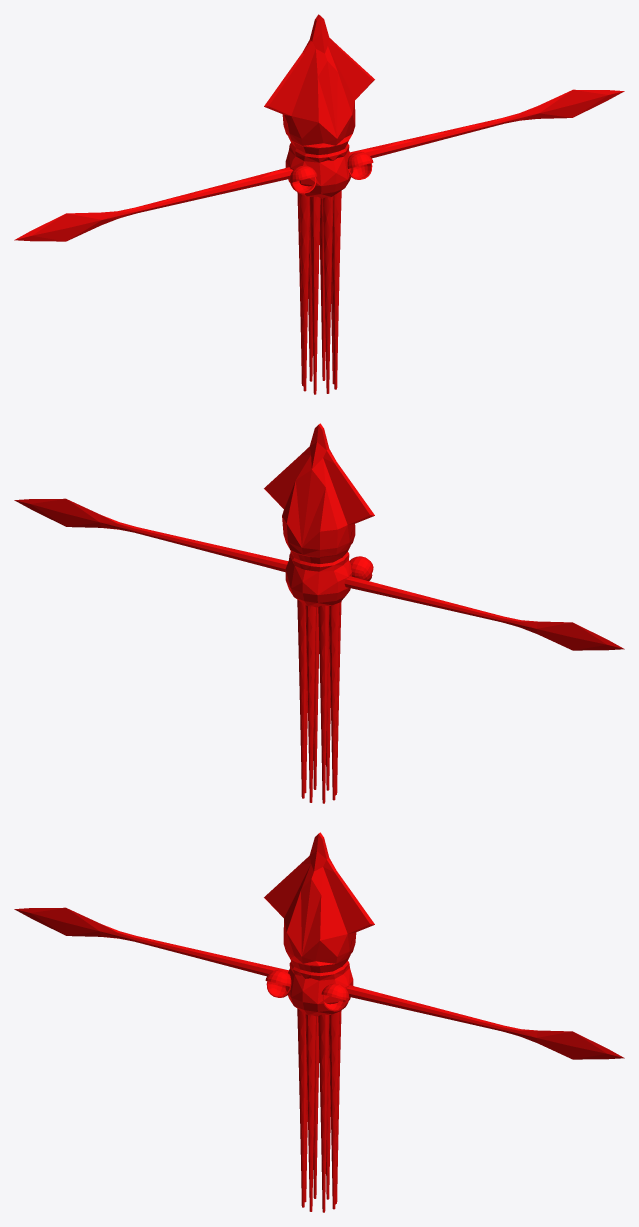
File: Squid_TrisBasic_SP.fbx
3 views of the same model, one above another, from view 1: azimuth 30°, elevation 25°; view 2: azimuth 150°, elevation 25°; view 3: azimuth 330°, elevation 25° (orthographic).
Parts seen in each view (by area): view 1: Body1; view 2: Body1; view 3: Body1.
Part boxes in pixels (bbox=[...]): Body1: bbox=[14, 14, 624, 394]; Body1: bbox=[14, 423, 624, 803]; Body1: bbox=[14, 832, 624, 1212].
Bounding box in the file's own units: 49.79 × 28.99 × 5.09.
